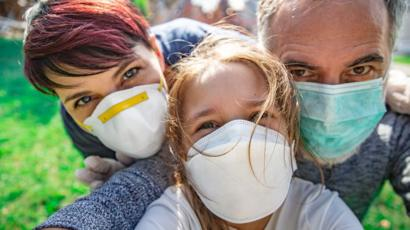with_mask: (264, 1, 405, 162), (175, 47, 302, 224), (41, 17, 176, 153)
